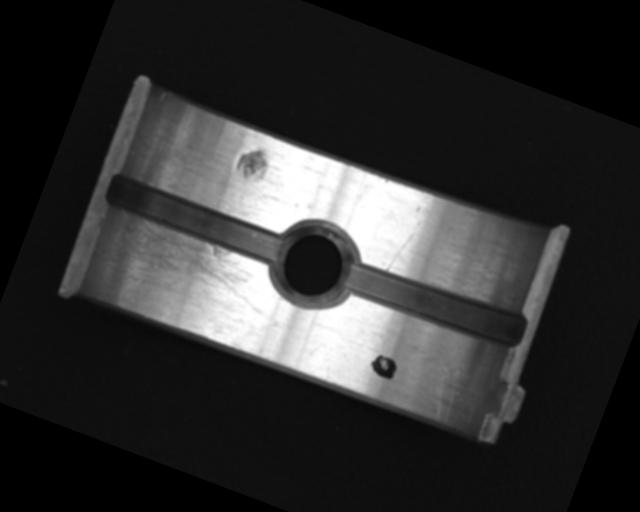blot: (367, 351, 400, 382)
bruise: (231, 143, 273, 186)
gap: (336, 248, 531, 356), (102, 168, 290, 270)
hole: (259, 207, 367, 318)
nick: (386, 215, 422, 276)
scratch: (88, 204, 281, 330)
